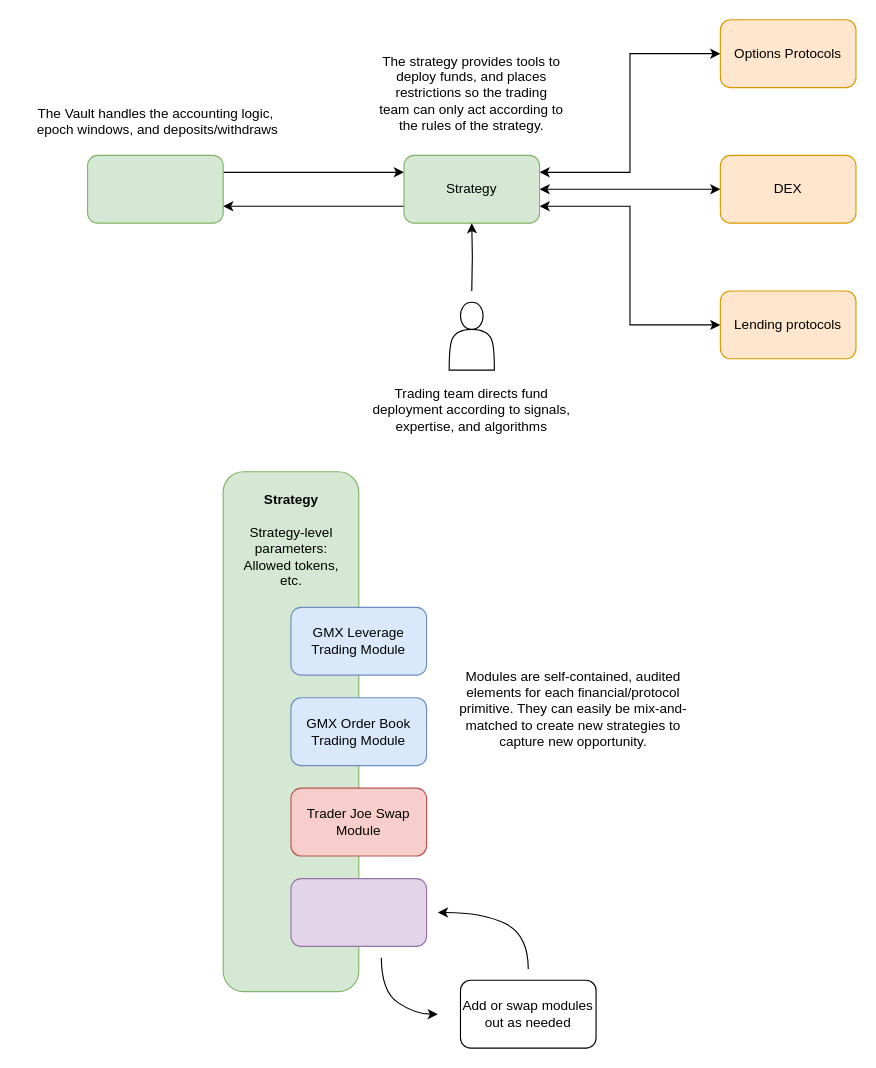
The diagram is 876 pixels wide and 1068 high, and some of its shapes have lost their labels. The shapes that lost their labels are listed below. From the top down, each one's centre as x and y in pixels, then its label:
At [154,188]: "Vault".
At [358,911]: "AAVE Borrowing".
